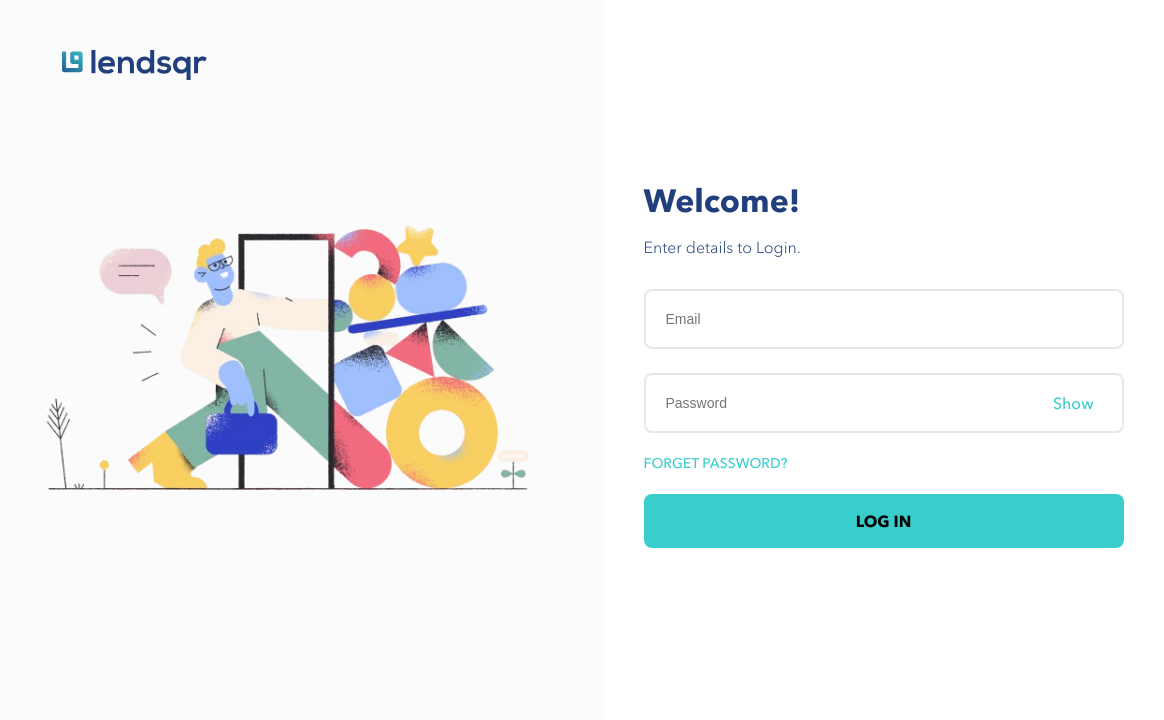
Test: Display error messages when the inputs are empty › Click the button
This screenshot has width=1164, height=720.
Expected: the text "Password must be at least 3 characters" is not shown
Click the button "LOG IN" at coordinates (884, 521), box [644, 494, 1124, 548]
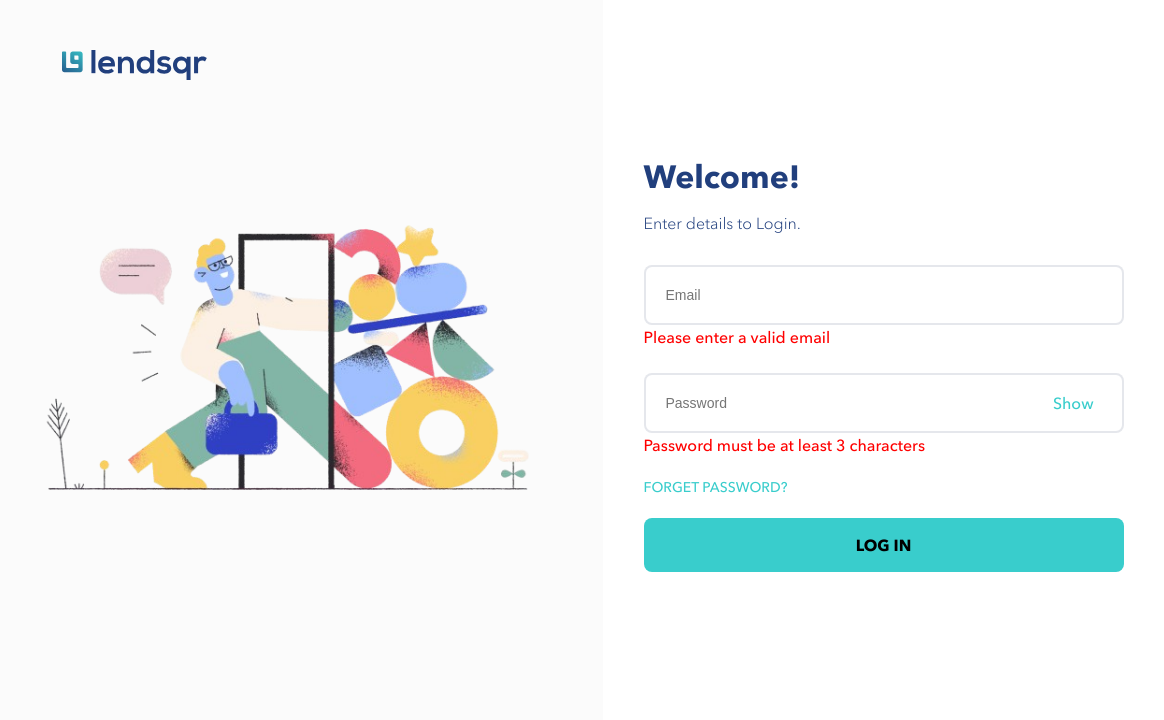
Expected: the password field with placeholder "Password" is empty, [644, 373, 1124, 433]
Now the text "Password must be at least 3 characters" is shown, box [644, 435, 925, 455]
